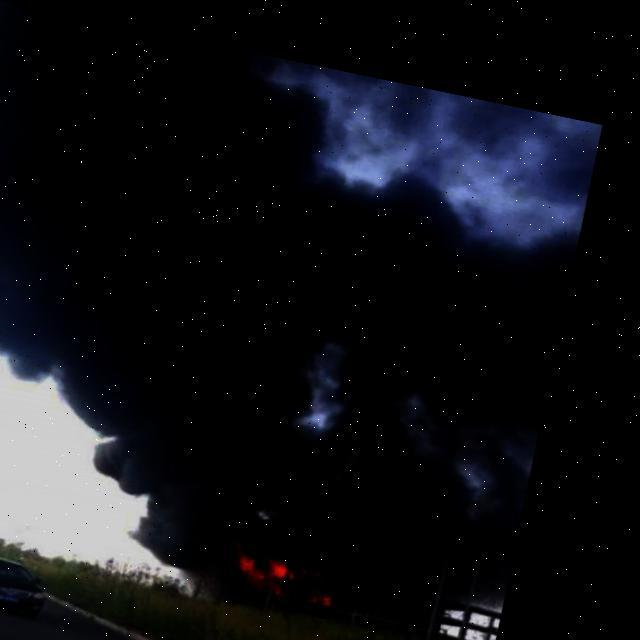Fire: (255, 520, 375, 602)
